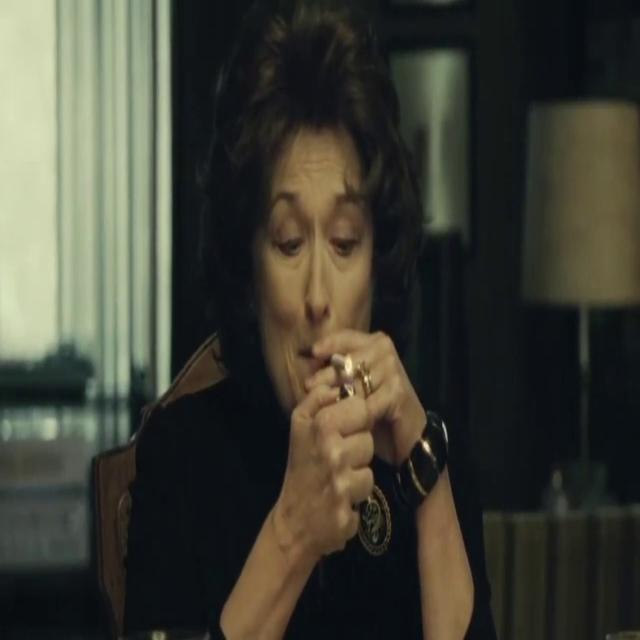Smooking: (328, 349, 354, 374)
